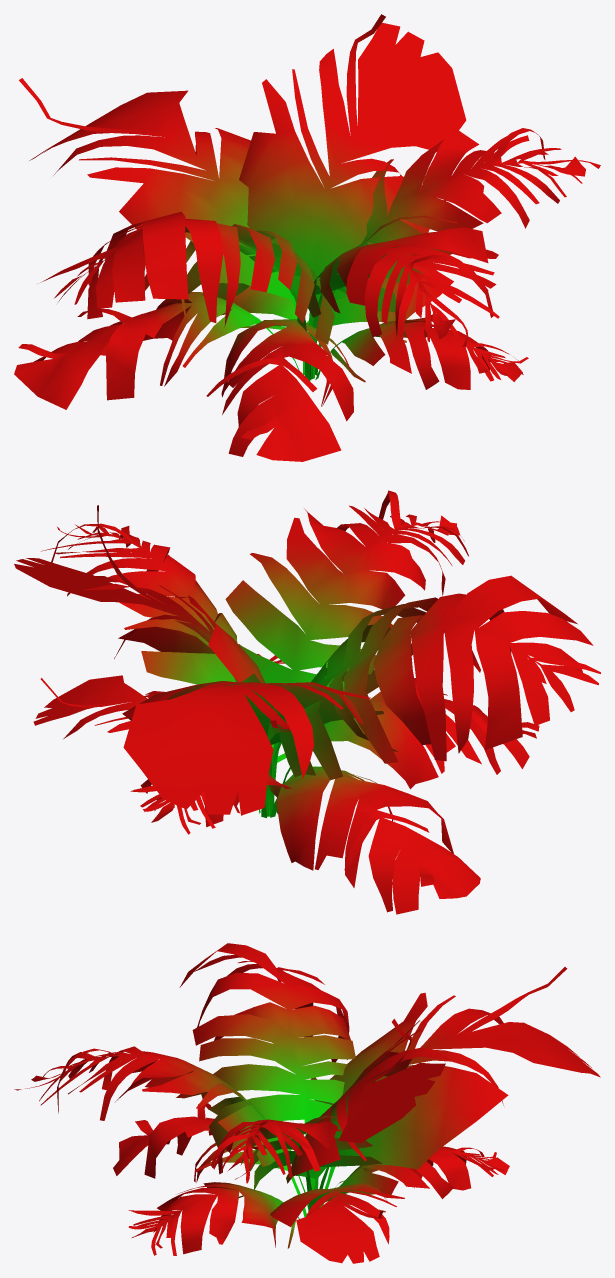
Rendered from Var1_LOD1.fbx.
The picture shows the model from 3 angles, top to bottom: view 1: azimuth 30°, elevation 25°; view 2: azimuth 150°, elevation 25°; view 3: azimuth 270°, elevation 25°; orthographic projection. The views are drawn at different scales.
Parts seen in each view (by area): view 1: _a70d_Var1_LOD1; view 2: _a70d_Var1_LOD1; view 3: _a70d_Var1_LOD1.
Boxes of the visible parts, bbox=[...] form: _a70d_Var1_LOD1: bbox=[14, 14, 600, 461]; _a70d_Var1_LOD1: bbox=[14, 490, 600, 914]; _a70d_Var1_LOD1: bbox=[14, 943, 600, 1263].
Bounding box in the file's own units: 331 × 180 × 355.
